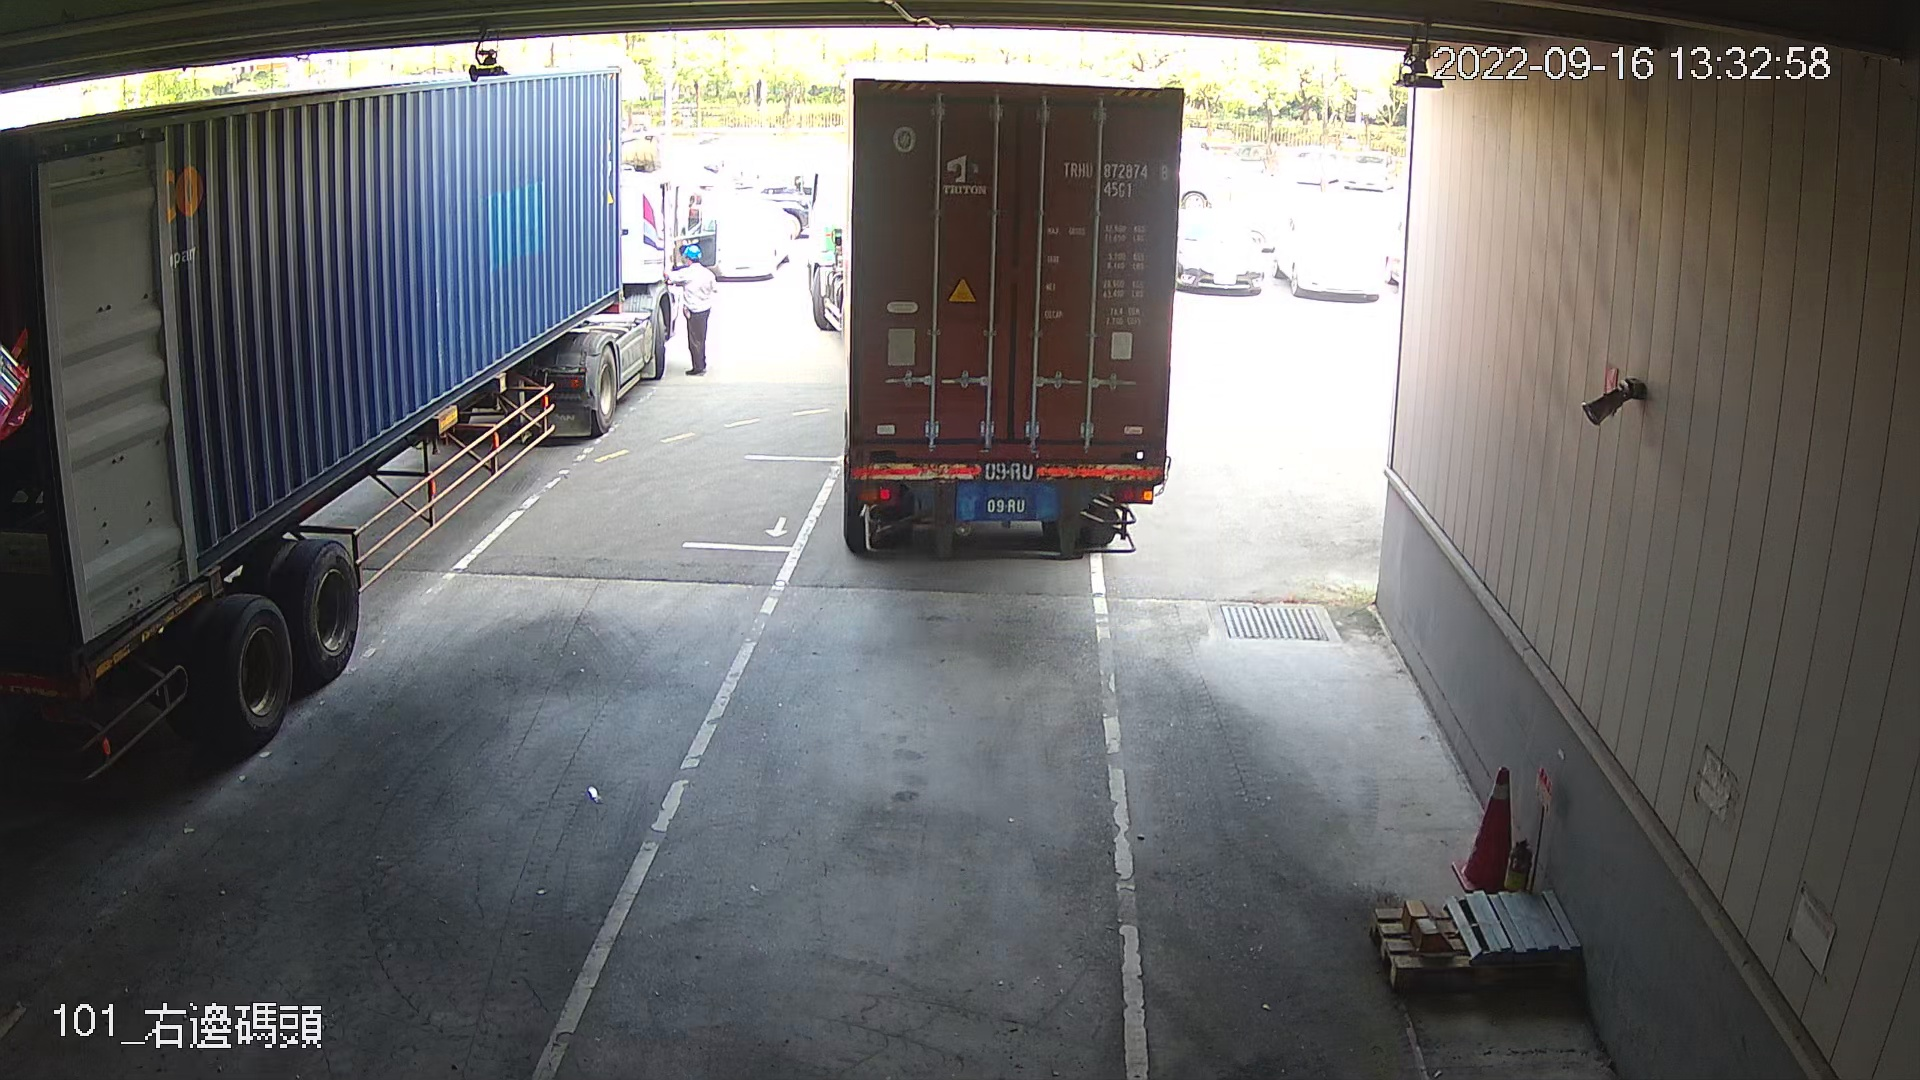container: (1054, 152, 1176, 206)
